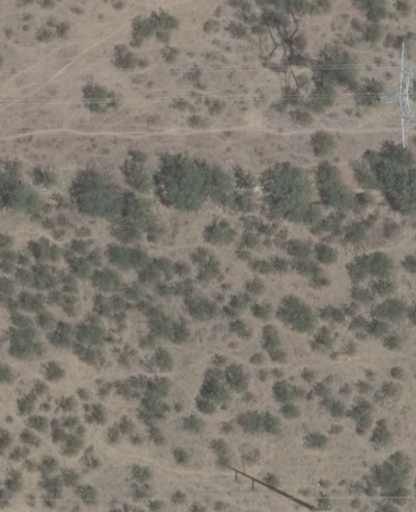TT: (373, 54, 414, 140)
